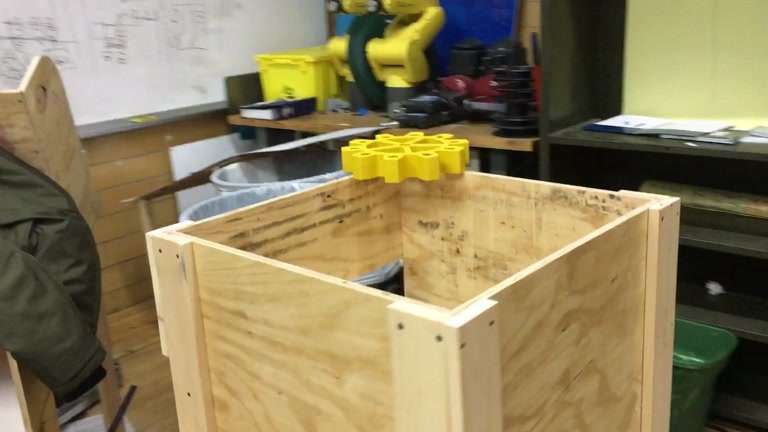gear: (338, 128, 469, 185)
